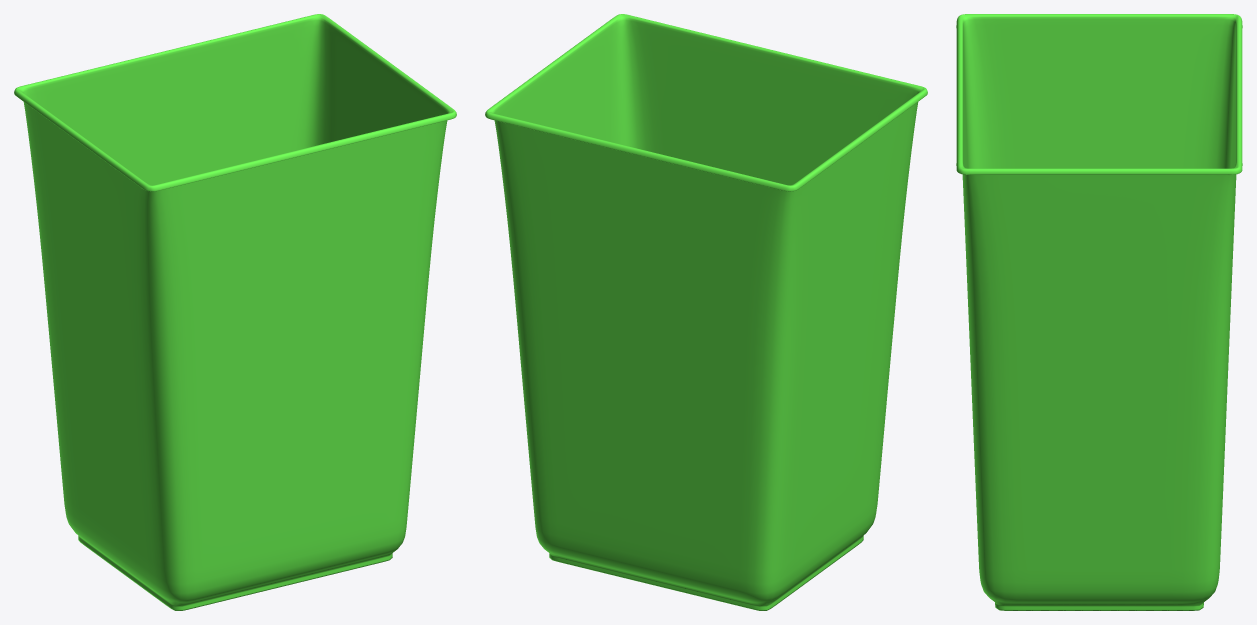
The model's file is Recycle_Trash_Bin.fbx.
The picture shows the model from 3 angles, left to right: view 1: azimuth 30°, elevation 25°; view 2: azimuth 150°, elevation 25°; view 3: azimuth 270°, elevation 25°; orthographic projection. The views are drawn at different scales.
Parts seen in each view (by area): view 1: Recycling Bin; view 2: Recycling Bin; view 3: Recycling Bin.
Boxes of the visible parts, box(x1,y1,x2,y2) form: Recycling Bin: box(14, 14, 456, 610); Recycling Bin: box(485, 14, 927, 610); Recycling Bin: box(956, 14, 1242, 610).
Size of the model in its own units: 66.74 by 91.69 by 51.23.
